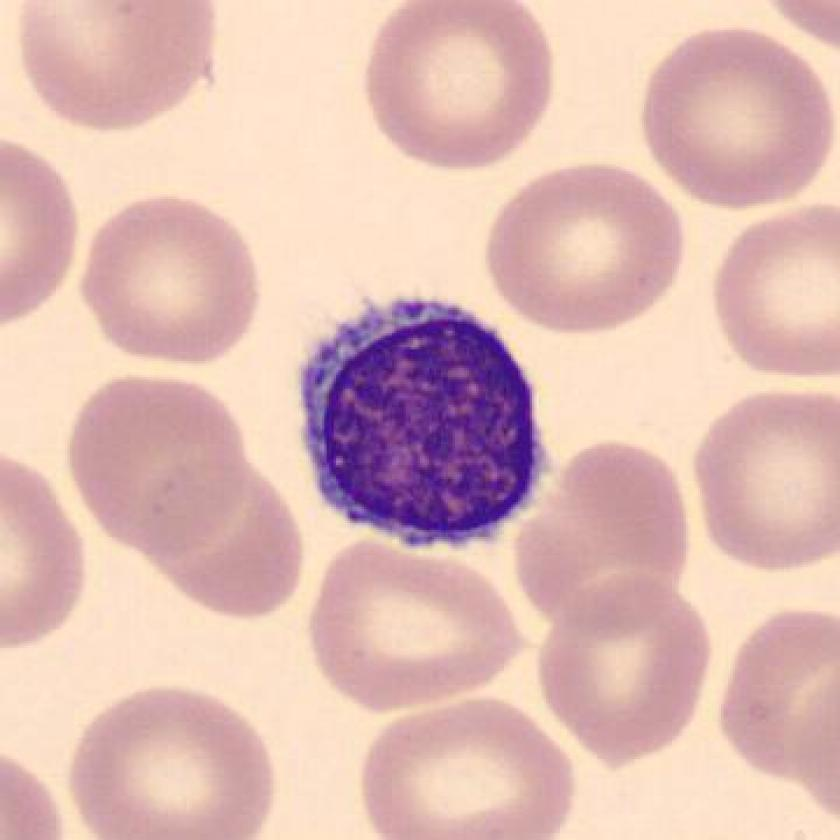lymphocyte: (284, 272, 557, 570)
